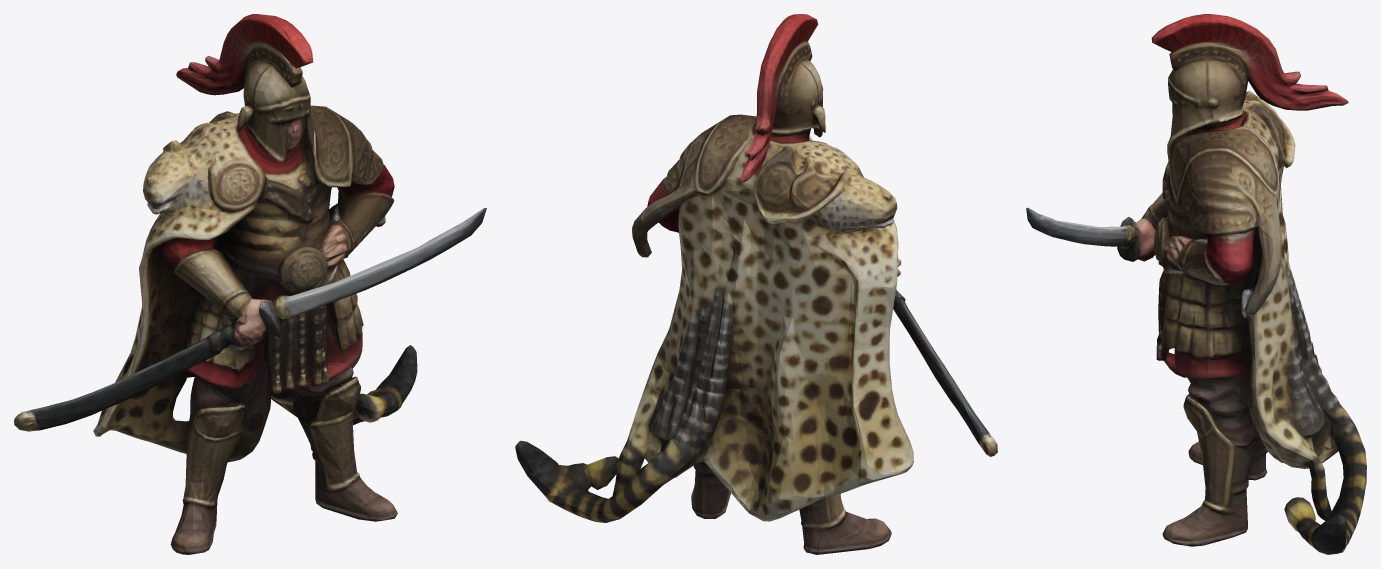
Rendered from katanaLegionary.glb.
3 views of the same model, side by side, from view 1: azimuth 30°, elevation 25°; view 2: azimuth 150°, elevation 25°; view 3: azimuth 270°, elevation 25° (orthographic). The views are drawn at different scales.
Visible parts, largest first — view 1: world; view 2: world; view 3: world.
Boxes of the visible parts, box(x1,y1,x2,y2) form: world: box(14, 14, 486, 554); world: box(515, 14, 997, 554); world: box(1026, 14, 1366, 554).
Bounding box in the file's own units: 0.9108 × 0.9976 × 0.6371.
Materials: 1 (1 with a texture image).
